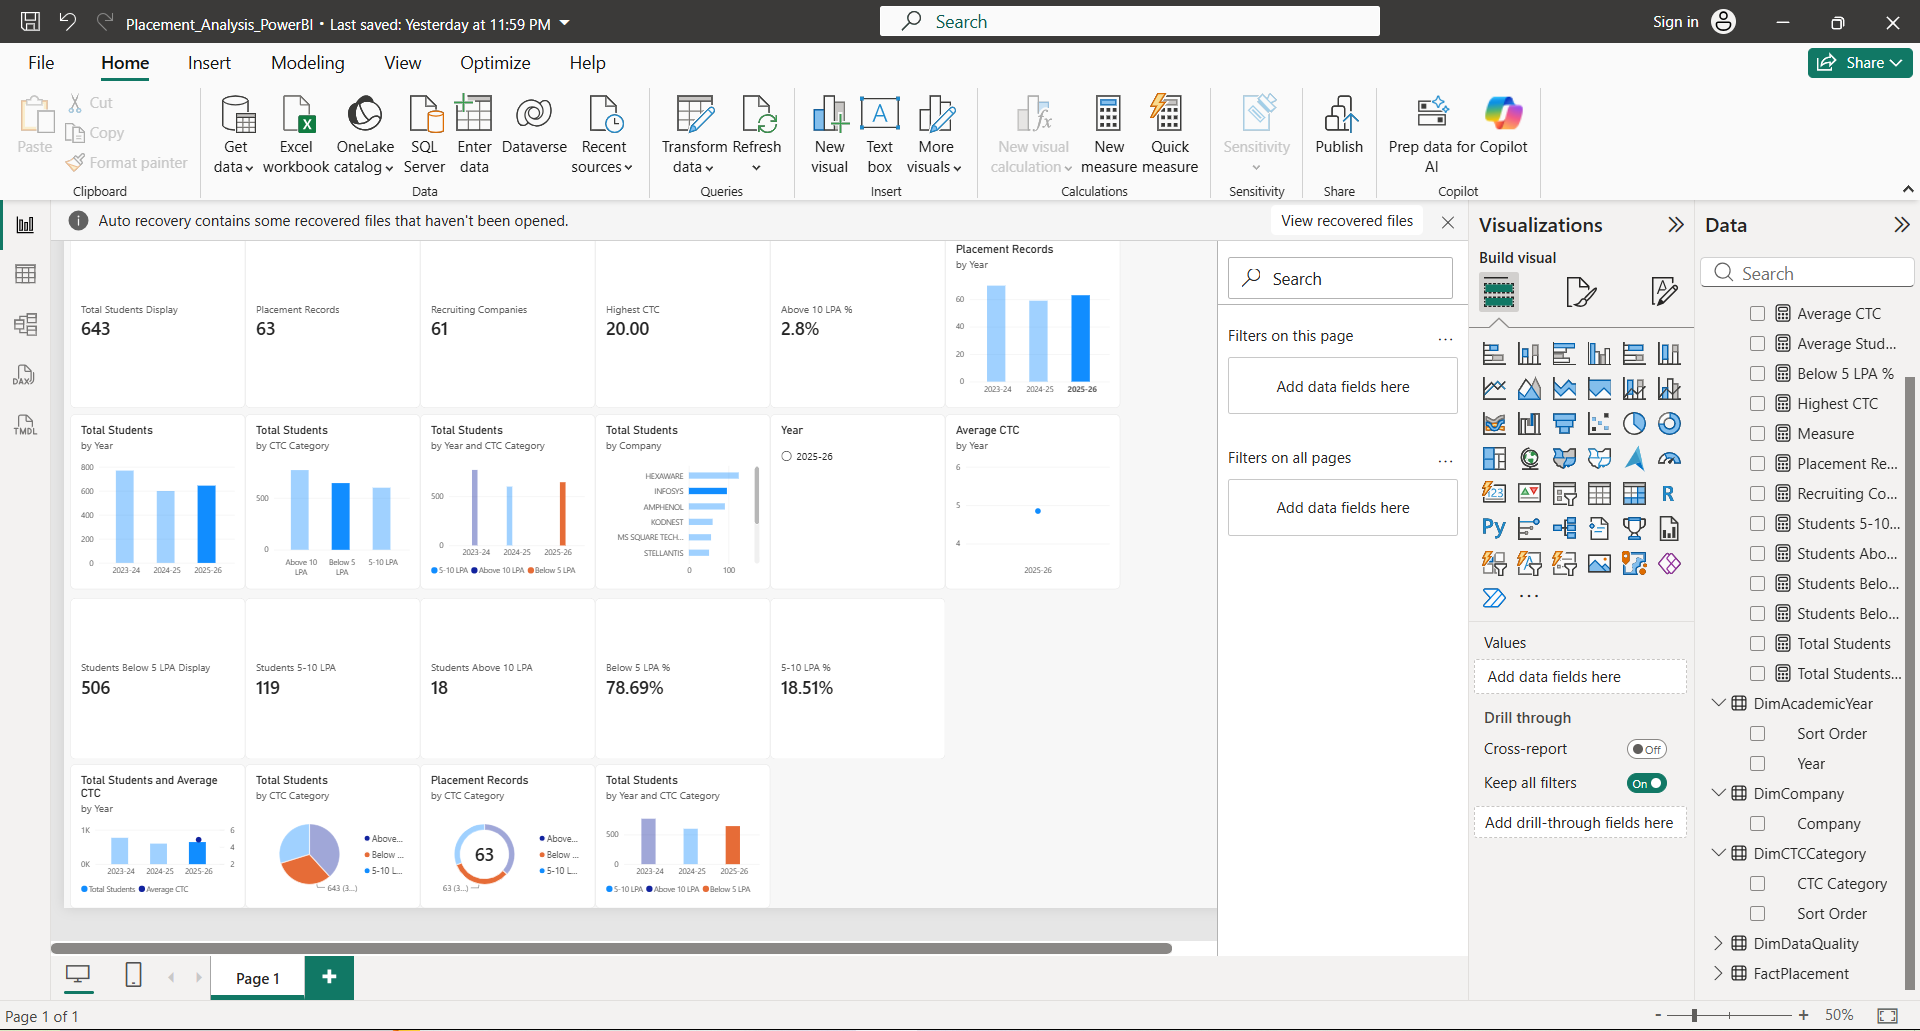

Layout of this report page (visuals, bound fields, positions):
{"tool":"powerbi","page":{"name":"Page 1","canvas":[1920,1080],"ordinal":0},"visuals":[{"type":"cardVisual","fields":{"Data":["Measures (2).Placement Records"]},"box":[290,96,280,246.7],"z":0},{"type":"cardVisual","fields":{"Data":["Measures (2).Recruiting Companies"]},"box":[570,96,280,246.7],"z":1000},{"type":"cardVisual","fields":{"Data":["Measures (2).Highest CTC"]},"box":[844.6,96.4,280,246.7],"z":2000},{"type":"cardVisual","fields":{"Data":["Measures (2).Above 10 LPA %"]},"box":[1125,96,280,246.7],"z":3000},{"type":"lineClusteredColumnComboChart","title":"Total Students by Academic Year","fields":{"Category":["DimAcademicYear.Year"],"Y":["Measures (2).Total Students"]},"box":[10,342.5,350,280],"z":4000},{"type":"clusteredColumnChart","fields":{"Category":["DimCTCCategory.CTC Category"],"Y":["Measures (2).Total Students"]},"box":[360.7,342,350,280],"z":5000},{"type":"clusteredColumnChart","title":"Students by CTC Category and Academic Year","fields":{"Category":["DimAcademicYear.Year"],"Series":["DimCTCCategory.CTC Category"],"Y":["Measures (2).Total Students"]},"box":[710.7,342,350,280],"z":6000},{"type":"clusteredBarChart","title":"Top 10 Recruiting Companies by Students","fields":{"Category":["DimCompany.Company"],"Y":["Measures (2).Total Students"]},"box":[1060.7,342.9,350,280],"z":7000},{"type":"listSlicer","title":"Academic Year","fields":{"Values":["DimAcademicYear.Year"]},"box":[1410.7,342.9,230.4,280.4],"z":8000},{"type":"cardVisual","fields":{"Data":["Measures (2).Students 5-10 LPA"]},"box":[291.1,623.2,280,225],"z":9000},{"type":"cardVisual","fields":{"Data":["Measures (2).Students Below 5 LPA Display"]},"box":[10,622.5,280,225],"z":10000},{"type":"cardVisual","fields":{"Data":["Measures (2).Total Students Display"]},"box":[10.7,96.4,280,246.7],"z":11000},{"type":"cardVisual","fields":{"Data":["Measures (2).Students Above 10 LPA"]},"box":[571.4,623.2,280,225],"z":12000},{"type":"cardVisual","fields":{"Data":["Measures (2).Below 5 LPA %"]},"box":[1685,96,235,246],"z":13000},{"type":"cardVisual","fields":{"Data":["Measures (2).5-10 LPA %"]},"box":[1405,96,280,246],"z":14000},{"type":"lineChart","title":"Average CTC by Academic Year","fields":{"Category":["DimAcademicYear.Year"],"Y":["Measures (2).Average CTC"]},"box":[1201.8,623.2,350,225],"z":15000},{"type":"clusteredColumnChart","title":"Placement Records by Academic Year","fields":{"Category":["DimAcademicYear.Year"],"Y":["Measures (2).Placement Records"]},"box":[1544.7,623.2,375,225],"z":16000},{"type":"lineClusteredColumnComboChart","fields":{"Category":["DimAcademicYear.Year"],"Y":["Measures (2).Total Students"],"Y2":["Measures (2).Average CTC"]},"box":[10,850,350,230],"z":17000},{"type":"pieChart","title":"Student Distribution by CTC Category","fields":{"Category":["DimCTCCategory.CTC Category"],"Y":["Measures (2).Total Students"]},"box":[360.7,850,350,230],"z":18000},{"type":"donutChart","title":"Placement Records by CTC Category","fields":{"Category":["DimCTCCategory.CTC Category"],"Y":["Measures (2).Placement Records"]},"box":[710.7,850,350,230],"z":19000},{"type":"ribbonChart","title":"CTC Category Trends by Academic Year","fields":{"Category":["DimAcademicYear.Year"],"Series":["DimCTCCategory.CTC Category"],"Y":["Measures (2).Total Students"]},"box":[1060.7,850,350,230],"z":20000},{"type":"textbox","box":[0,0,1690,95],"z":21000},{"type":"cardVisual","fields":{"Data":["Measures (2).Recruiting Companies"]},"box":[851.8,623.2,350,225],"z":21001},{"type":"tableEx","fields":{"Values":["DimCompany.Company","Measures (2).Total Students"]},"box":[1410.7,850,508.9,230.4],"z":21002},{"type":"gauge","title":"Average CTC vs Highest CTC","fields":{"Y":["Measures (2).Average CTC"],"TargetValue":["Measures (2).Highest CTC"],"MaxValue":["Measures (2).Highest CTC"]},"box":[1641.1,342.9,278.6,280.4],"z":21003}]}

Visuals, with their boxes on the page's 1920x1080 design canvas (x1, y1, x2, y2). These are canvas units, not pixel positions in the 1920x1031 screenshot, which may show the page scaled, cropped or inside an application window:
cardVisual - Measures (2).Placement Records: crop(290, 96, 570, 343)
cardVisual - Measures (2).Recruiting Companies: crop(570, 96, 850, 343)
cardVisual - Measures (2).Highest CTC: crop(845, 96, 1125, 343)
cardVisual - Measures (2).Above 10 LPA %: crop(1125, 96, 1405, 343)
"Total Students by Academic Year" lineClusteredColumnComboChart: crop(10, 342, 360, 622)
clusteredColumnChart - DimCTCCategory.CTC Category x Measures (2).Total Students: crop(361, 342, 711, 622)
"Students by CTC Category and Academic Year" clusteredColumnChart: crop(711, 342, 1061, 622)
"Top 10 Recruiting Companies by Students" clusteredBarChart: crop(1061, 343, 1411, 623)
"Academic Year" listSlicer: crop(1411, 343, 1641, 623)
cardVisual - Measures (2).Students 5-10 LPA: crop(291, 623, 571, 848)
cardVisual - Measures (2).Students Below 5 LPA Display: crop(10, 622, 290, 848)
cardVisual - Measures (2).Total Students Display: crop(11, 96, 291, 343)
cardVisual - Measures (2).Students Above 10 LPA: crop(571, 623, 851, 848)
cardVisual - Measures (2).Below 5 LPA %: crop(1685, 96, 1920, 342)
cardVisual - Measures (2).5-10 LPA %: crop(1405, 96, 1685, 342)
"Average CTC by Academic Year" lineChart: crop(1202, 623, 1552, 848)
"Placement Records by Academic Year" clusteredColumnChart: crop(1545, 623, 1920, 848)
lineClusteredColumnComboChart - DimAcademicYear.Year x Measures (2).Total Students: crop(10, 850, 360, 1080)
"Student Distribution by CTC Category" pieChart: crop(361, 850, 711, 1080)
"Placement Records by CTC Category" donutChart: crop(711, 850, 1061, 1080)
"CTC Category Trends by Academic Year" ribbonChart: crop(1061, 850, 1411, 1080)
textbox: crop(0, 0, 1690, 95)
cardVisual - Measures (2).Recruiting Companies: crop(852, 623, 1202, 848)
tableEx - DimCompany.Company x Measures (2).Total Students: crop(1411, 850, 1920, 1080)
"Average CTC vs Highest CTC" gauge: crop(1641, 343, 1920, 623)
